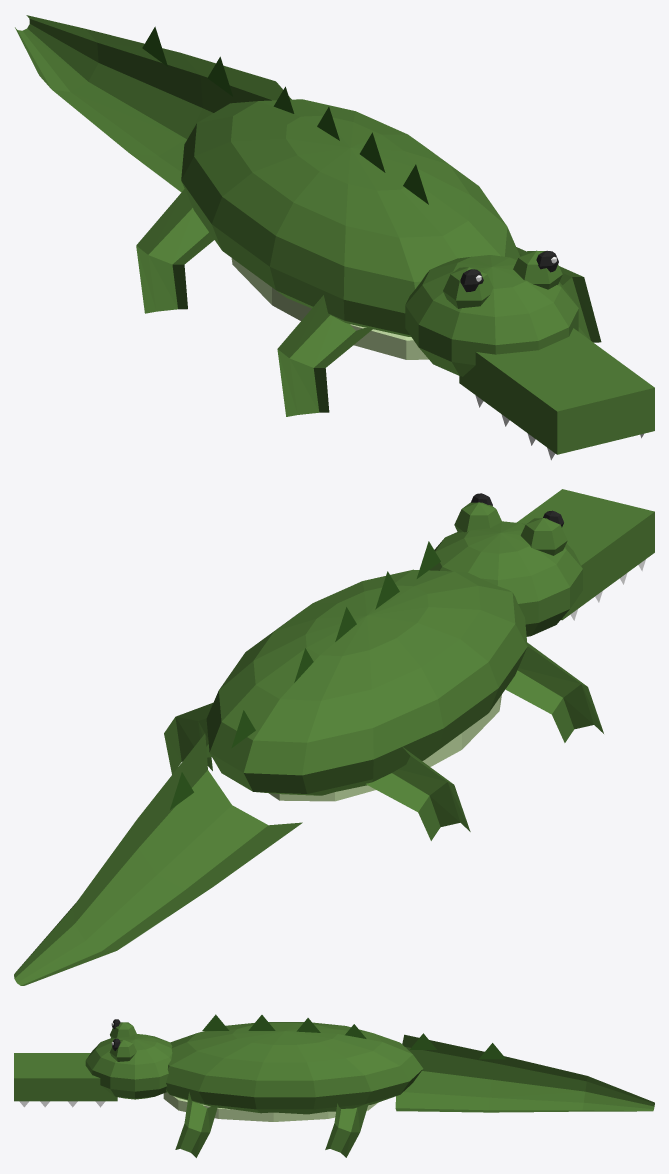
The model's file is krokodil.glb.
3 views of the same model, one above another, from view 1: azimuth 30°, elevation 25°; view 2: azimuth 150°, elevation 25°; view 3: azimuth 270°, elevation 25° (orthographic). The views are drawn at different scales.
Visible parts, largest first — view 1: krokodil; view 2: krokodil; view 3: krokodil.
Boxes of the visible parts, x1,y1,x2,y2 form: krokodil: (15,15,654,460); krokodil: (14,489,654,985); krokodil: (14,1014,654,1157).
Size of the model in its own units: 0.8112 by 0.5191 by 2.78.
